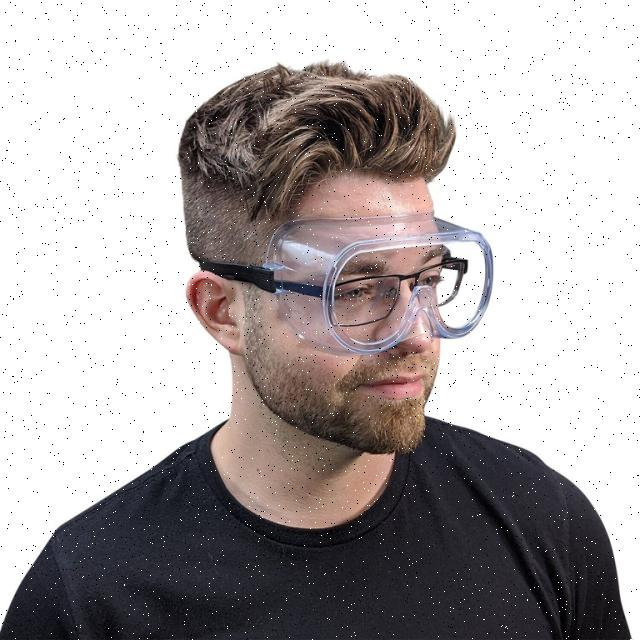goggles_on: (184, 214, 496, 348)
